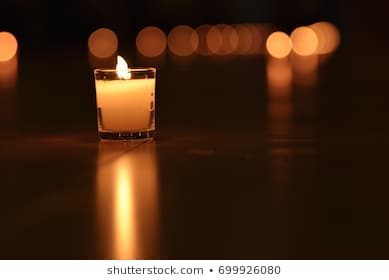Fire: (115, 56, 135, 82)
